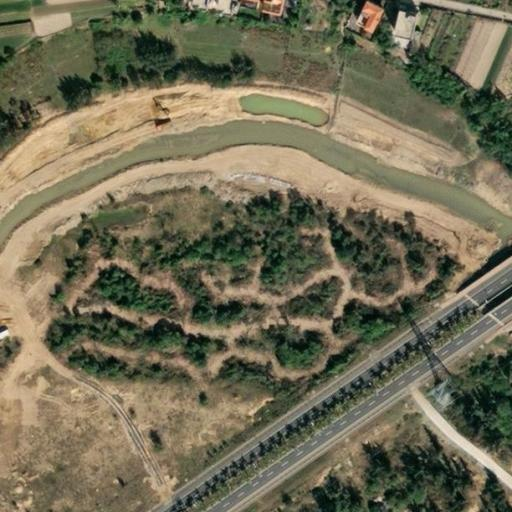building: (447, 8, 509, 90), (24, 373, 61, 410), (347, 0, 375, 31), (389, 9, 412, 40), (0, 16, 35, 36), (148, 420, 168, 440), (259, 0, 283, 14), (210, 0, 231, 14), (135, 407, 150, 423), (163, 436, 179, 451), (186, 0, 206, 7), (237, 0, 255, 7)
